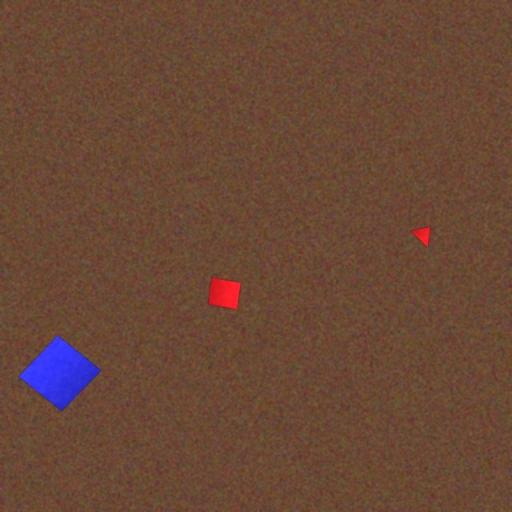BLUE_SQUARE: (18, 335, 102, 412)
RED_SQUARE: (207, 277, 242, 310)
